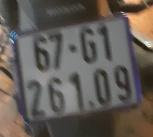0: (93, 66, 112, 106)
1: (98, 22, 117, 62), (69, 71, 87, 113)
2: (25, 77, 45, 118)
6: (32, 34, 52, 73), (46, 76, 67, 112)
7: (49, 30, 64, 73)
9: (113, 62, 134, 106)
G: (78, 22, 101, 64)
